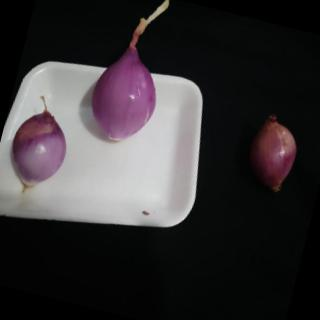Bawang Merah: (79, 1, 183, 151), (1, 90, 80, 203), (237, 106, 310, 200)
